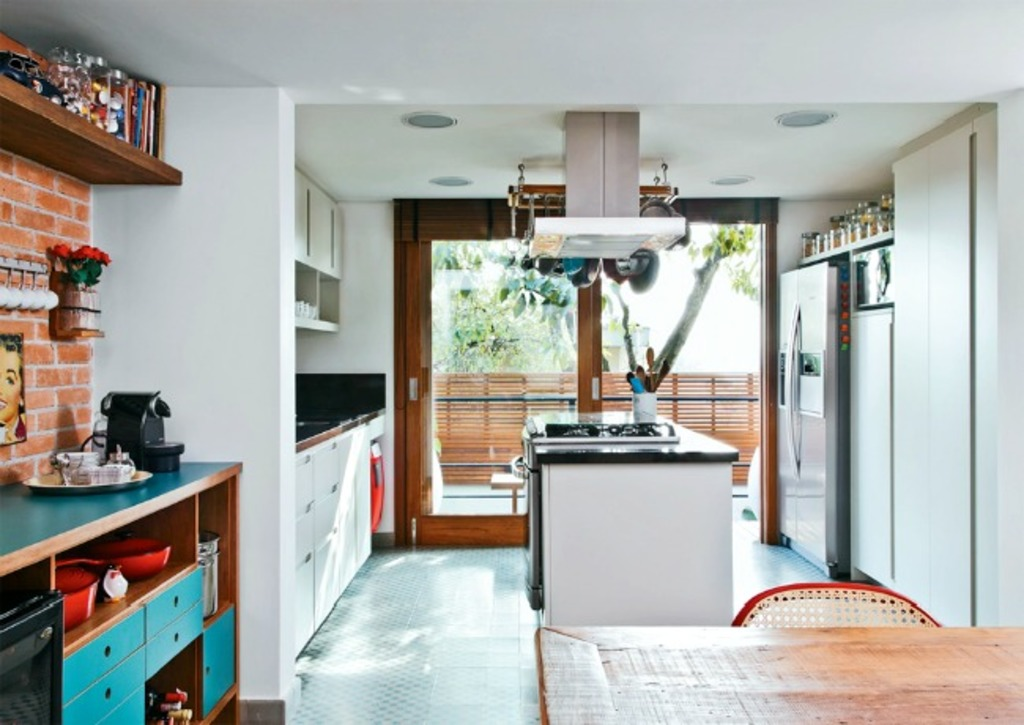cabinet door: (61, 668, 141, 710), (65, 625, 134, 669), (151, 616, 202, 667), (311, 535, 355, 594), (298, 563, 318, 646), (310, 438, 358, 471), (315, 485, 354, 525), (150, 587, 204, 615), (296, 455, 315, 502), (296, 509, 313, 561)
door: (412, 234, 582, 525)
handle: (782, 305, 798, 473), (95, 635, 118, 667), (100, 683, 116, 703), (171, 594, 185, 609), (170, 631, 183, 643)
refrigerator door: (795, 263, 834, 555), (770, 277, 798, 535)
